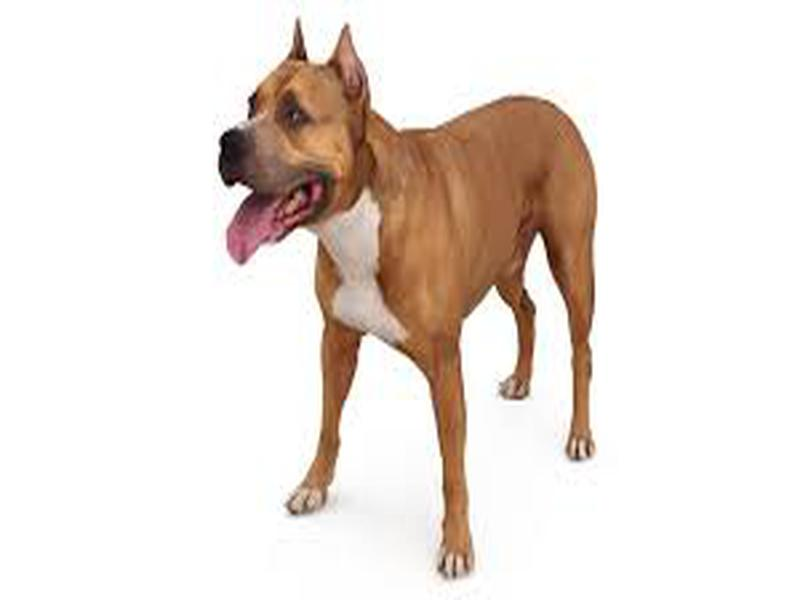dog_stand: (219, 12, 604, 588)
